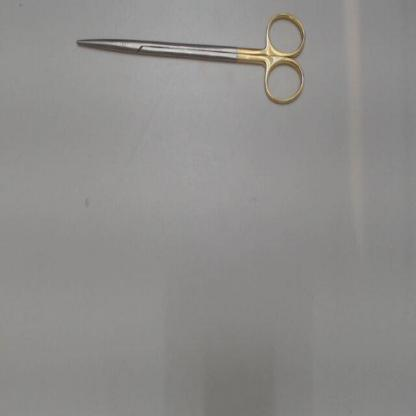7 Metzenbaum Scissors: (74, 8, 310, 112)
